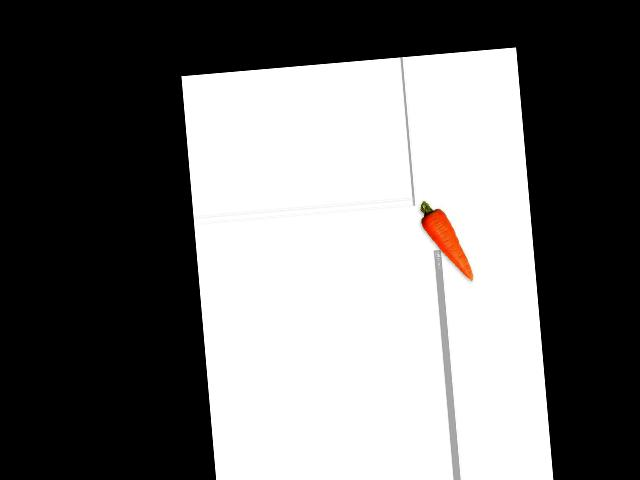carrot: (417, 197, 475, 285)
